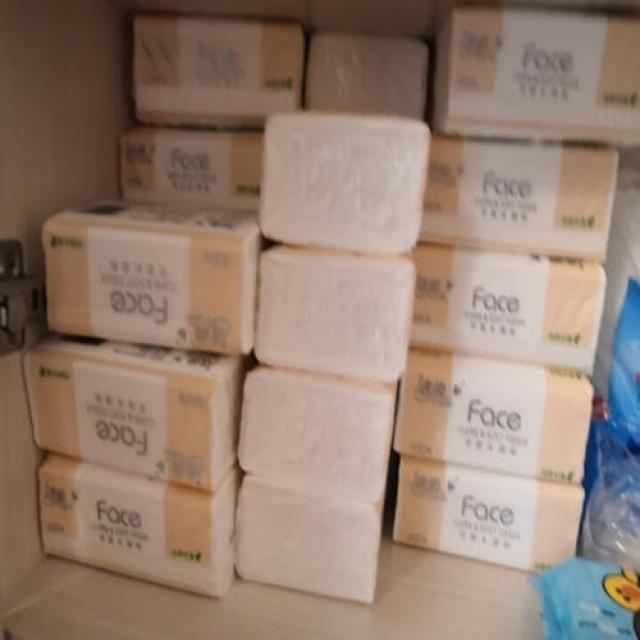box: (41, 193, 262, 355), (22, 331, 244, 492), (419, 108, 621, 263), (37, 454, 238, 599), (434, 7, 639, 148), (398, 242, 608, 375), (393, 348, 595, 485), (259, 109, 433, 256), (253, 239, 417, 384), (392, 454, 585, 572), (238, 365, 399, 502), (134, 12, 305, 130), (237, 476, 389, 602), (120, 121, 264, 210), (303, 32, 430, 121)
